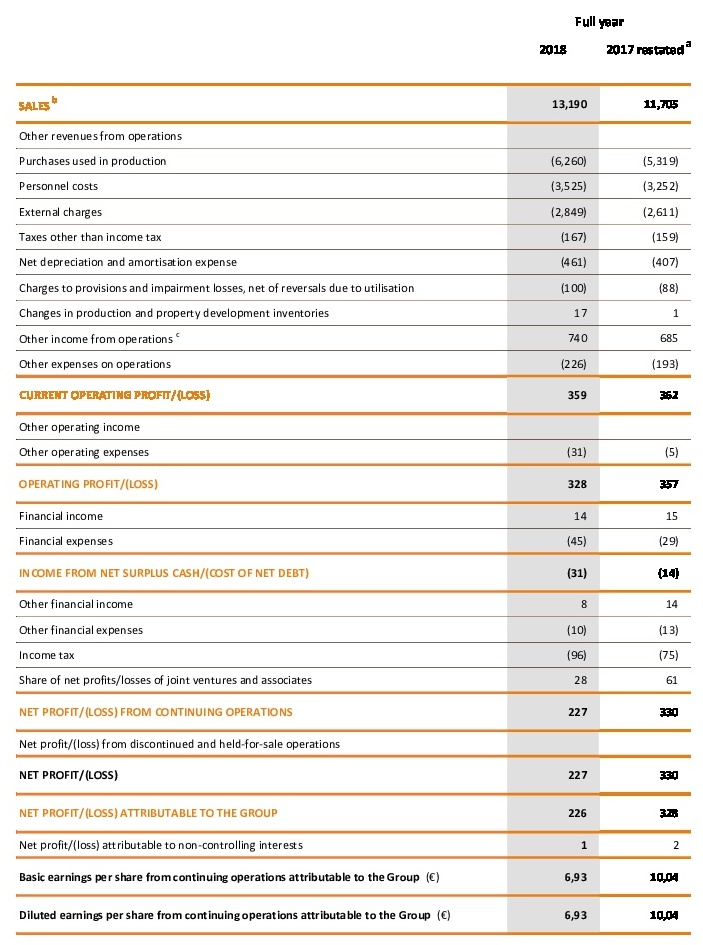table: (0, 0, 703, 945)
